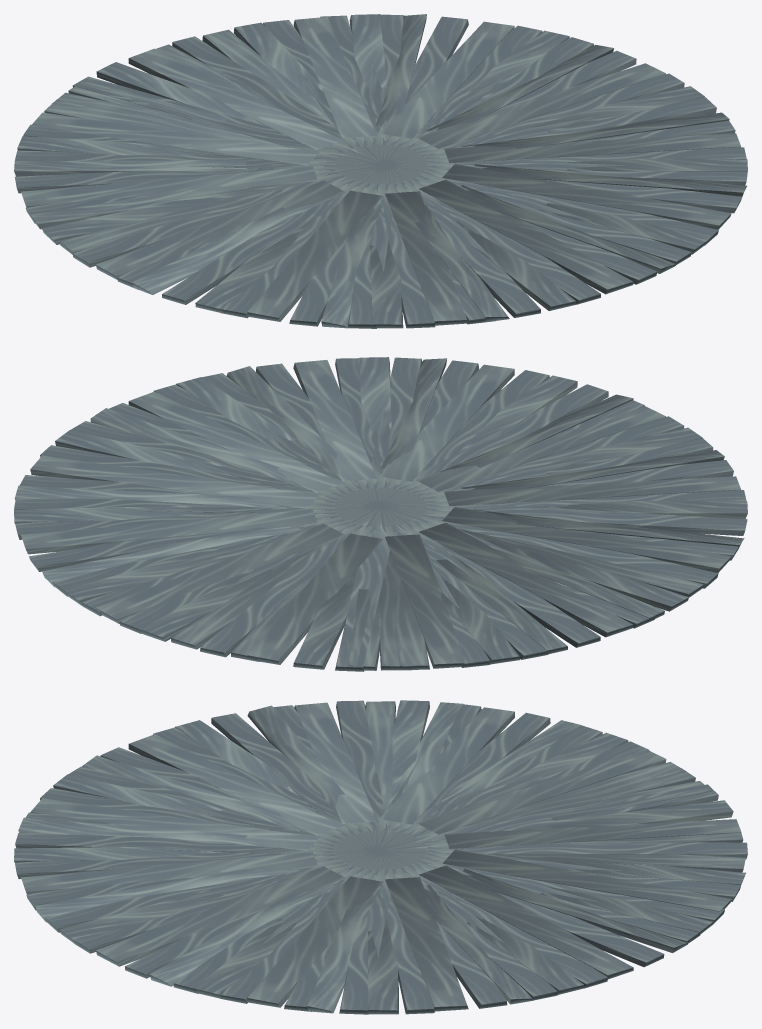
Rendered from RoundPlatform.fbx.
3 renders of one model, top to bottom at view 1: azimuth 30°, elevation 25°; view 2: azimuth 150°, elevation 25°; view 3: azimuth 270°, elevation 25°, orthographic.
Visible parts, largest first — view 1: Cylinder.001; view 2: Cylinder.001; view 3: Cylinder.001.
Part boxes in pixels (x1,y1,x2,y2): Cylinder.001: (14, 14, 747, 328); Cylinder.001: (14, 357, 747, 671); Cylinder.001: (14, 700, 747, 1014).
Bounding box in the file's own units: 22.53 × 0.3453 × 22.53.
